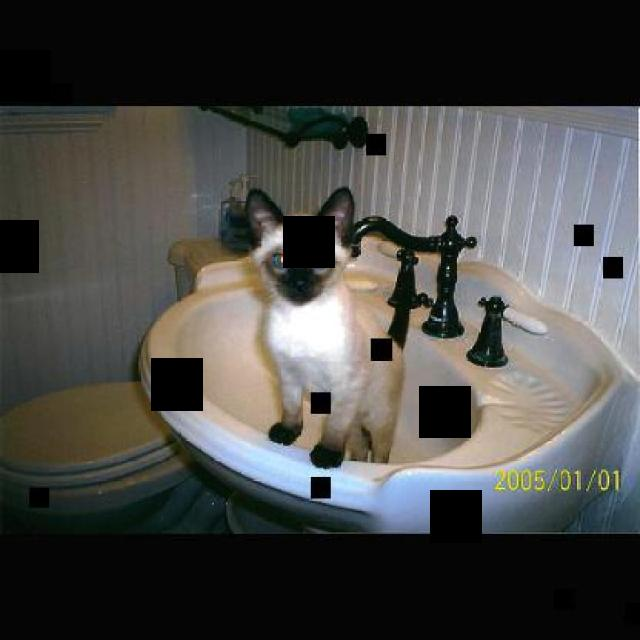unauthorized: (243, 185, 405, 468)
